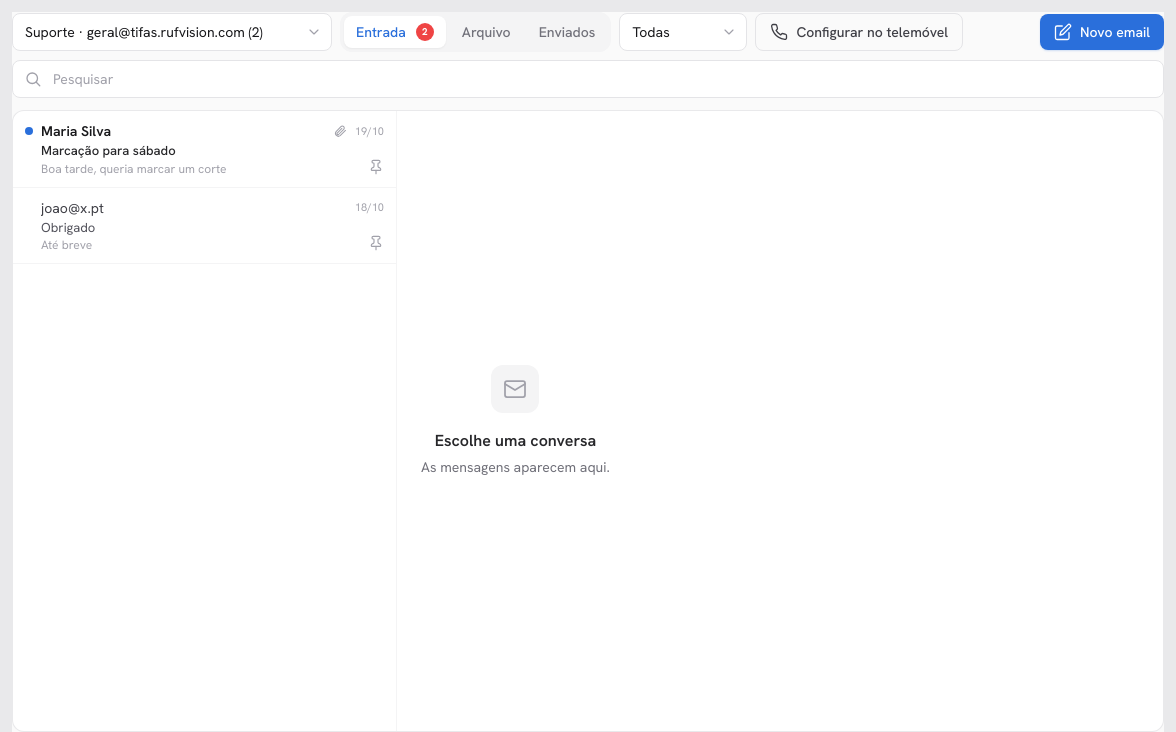
Test: Correio → Caixa — lista, pastas e pesquisa › «Configurar no telemóvel» só aparece nas caixas que posso gerir (canManageAppPassword)
Expected: the button "Configurar no telemóvel" is shown, [755,13,963,51]
Select "Pessoal · ana@tifas.rufvision.com" in the dropdown named "Caixa": x=172, y=32 [12,13,332,51]
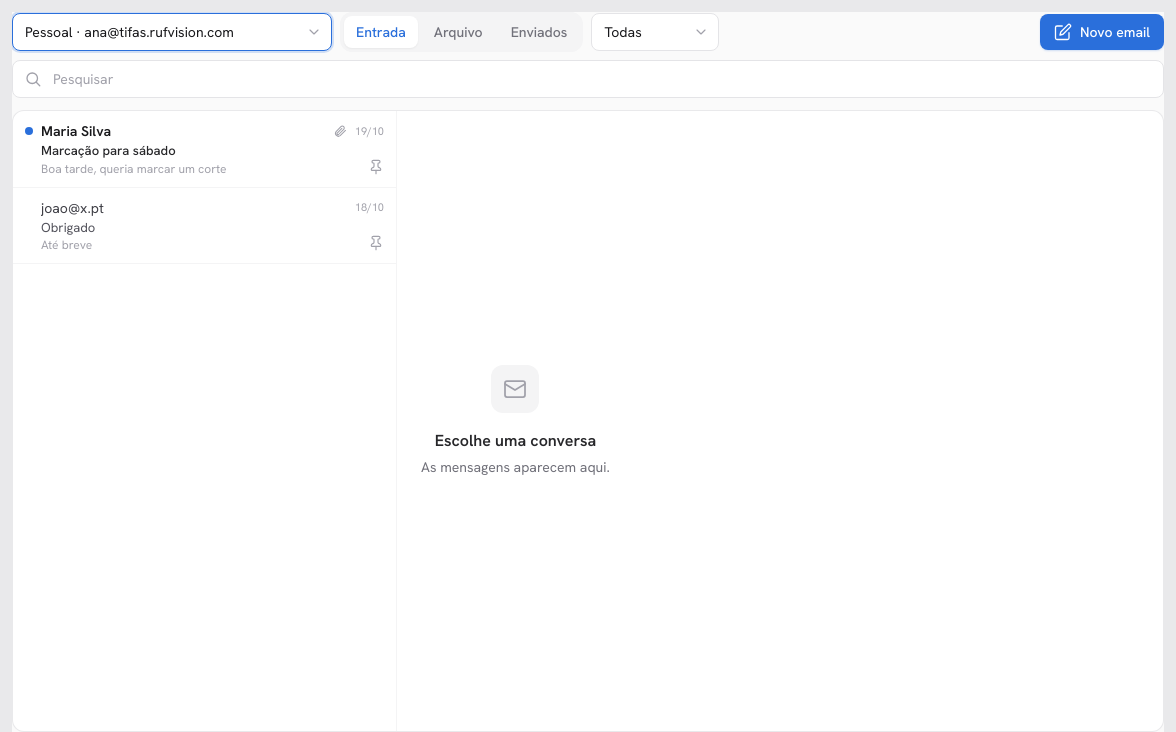
Expected: the button "Configurar no telemóvel" is gone
